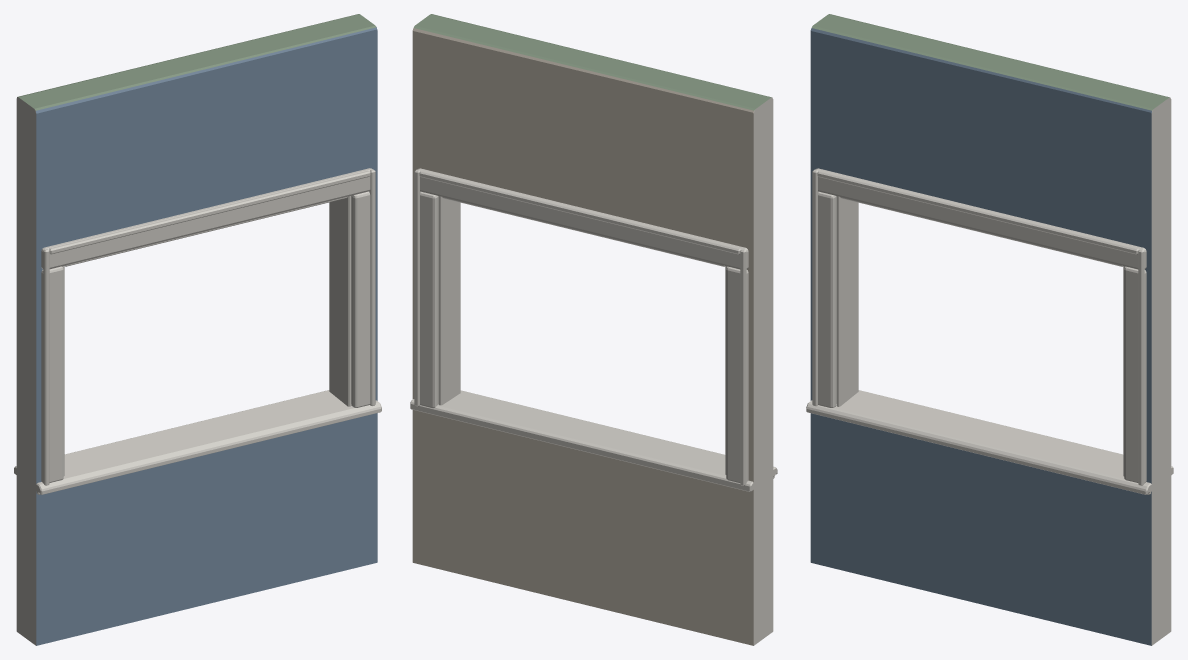
Rendered from SM_Kit_Wall_Window2.glb.
3 renders of one model, left to right at view 1: azimuth 30°, elevation 25°; view 2: azimuth 150°, elevation 25°; view 3: azimuth 330°, elevation 25°, orthographic.
Parts seen in each view (by area): view 1: SM_Kit_Wall_Window2; view 2: SM_Kit_Wall_Window2; view 3: SM_Kit_Wall_Window2.
Part boxes in pixels (x1=…): SM_Kit_Wall_Window2: x1=14, y1=14, x2=381, y2=645; SM_Kit_Wall_Window2: x1=410, y1=14, x2=777, y2=645; SM_Kit_Wall_Window2: x1=806, y1=14, x2=1173, y2=645.
Bounding box in the file's own units: 2 × 3 × 0.29.
